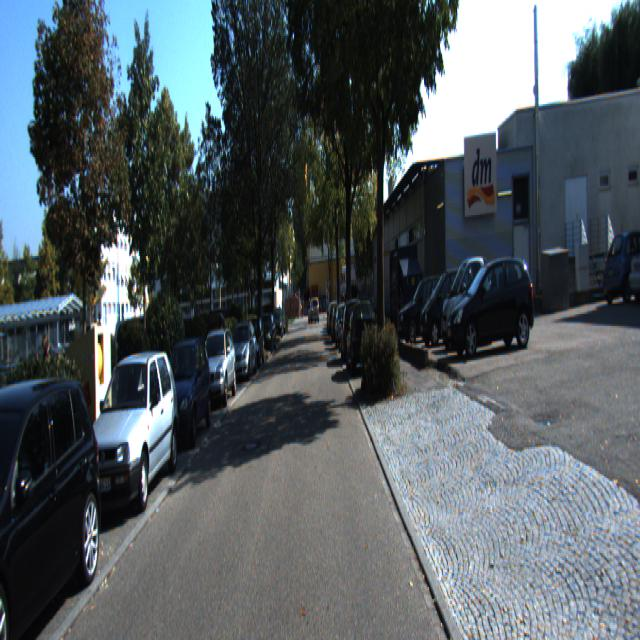Car: (0, 369, 111, 638), (78, 342, 184, 522), (444, 254, 538, 366), (154, 333, 214, 454), (438, 248, 498, 351), (418, 261, 480, 352), (396, 270, 454, 346), (195, 327, 238, 412), (600, 219, 640, 296), (346, 299, 377, 377), (227, 318, 258, 382), (341, 297, 365, 365), (626, 218, 640, 297)
